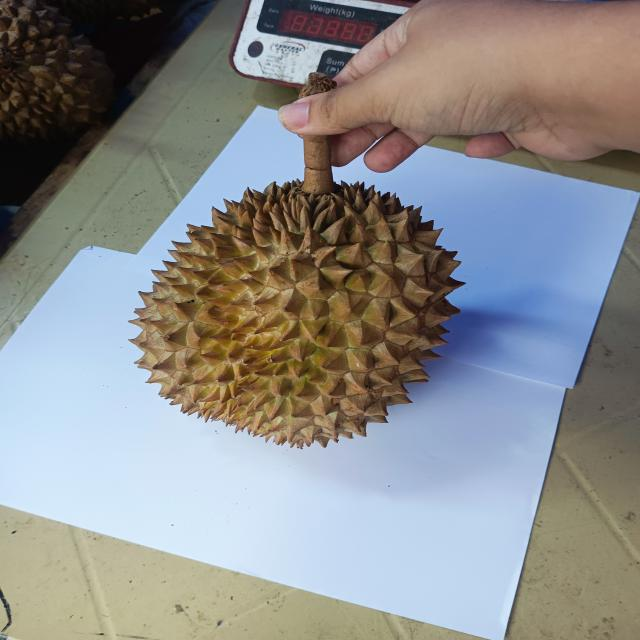mature: (127, 175, 464, 446)
